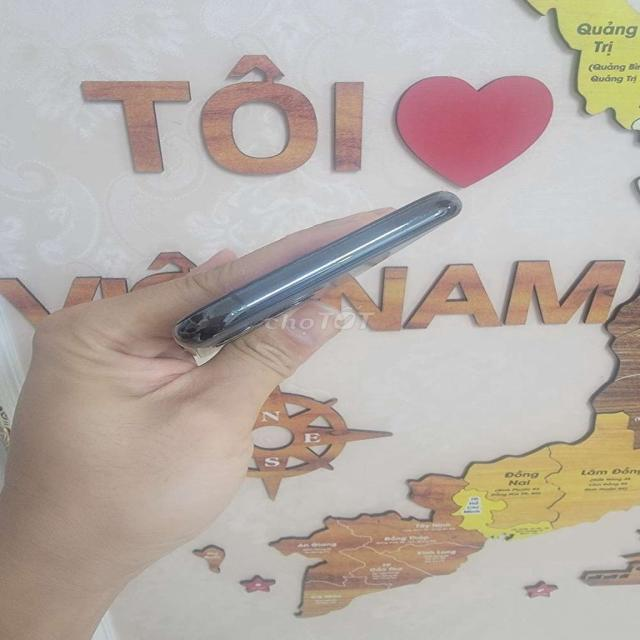gen_11: (174, 185, 486, 353)
